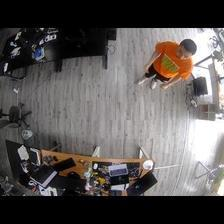normal: (137, 37, 197, 94)
